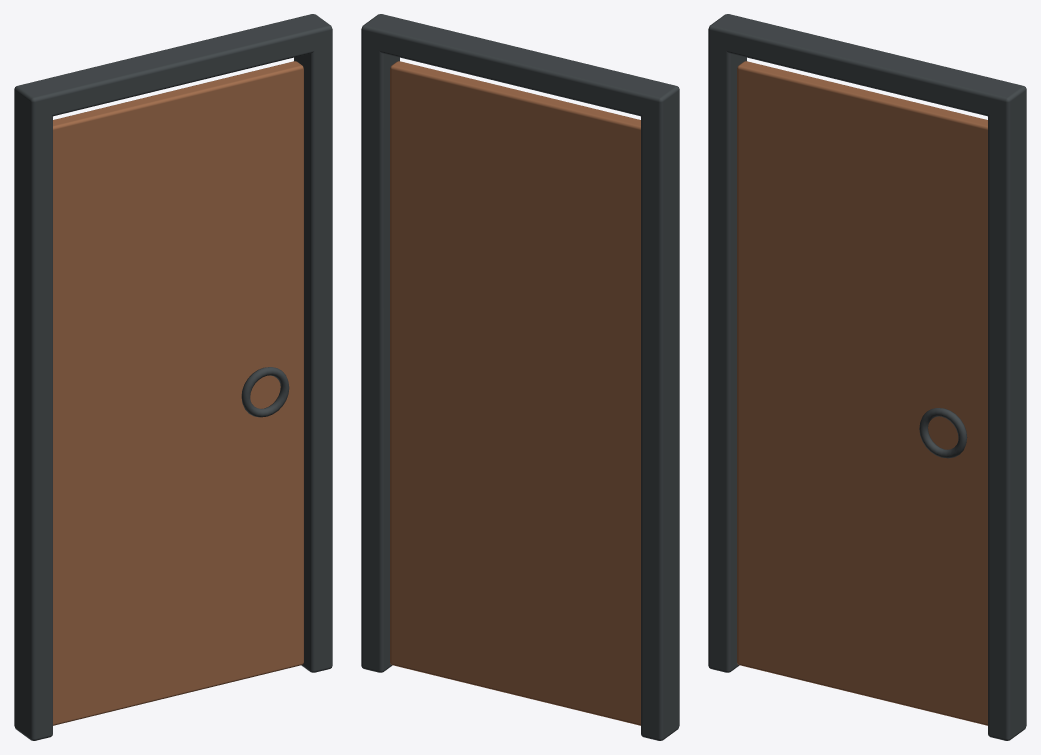
Rendered from undercity-sewers-and-thieves-den-iron-service-door-b4aad8f4__27211.glb.
3 renders of one model, left to right at view 1: azimuth 30°, elevation 25°; view 2: azimuth 150°, elevation 25°; view 3: azimuth 330°, elevation 25°, orthographic.
Parts seen in each view (by area): view 1: door, iron-service-door; view 2: door, iron-service-door; view 3: door, iron-service-door.
Boxes of the visible parts, x1,y1,x2,y2 form: door: [53, 61, 303, 725]; iron-service-door: [14, 14, 332, 740]; door: [390, 61, 640, 725]; iron-service-door: [361, 14, 679, 740]; door: [737, 61, 987, 725]; iron-service-door: [708, 14, 1026, 740].
Size of the model in its own units: 1.08 by 2.2 by 0.1241.
